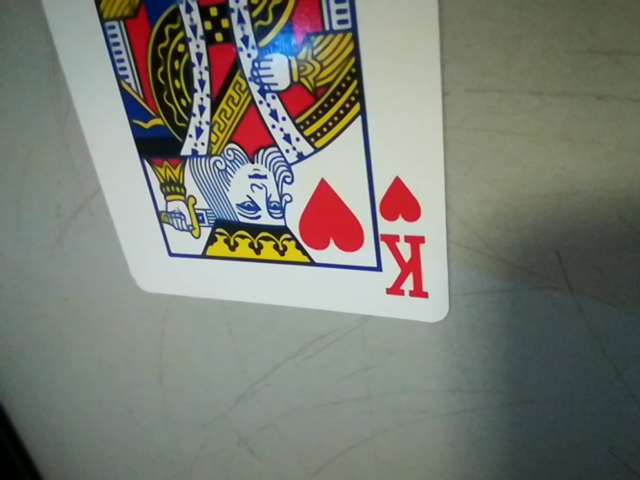hx k: (368, 174, 442, 309)
